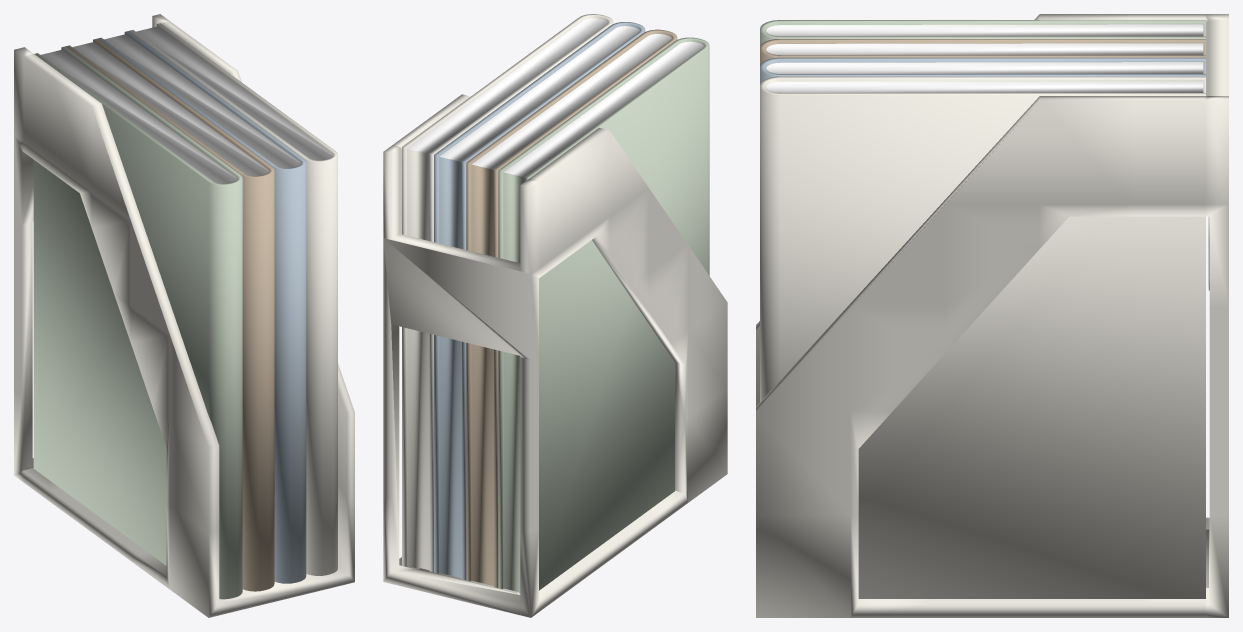
The model's file is books-stand.glb.
3 views of the same model, side by side, from view 1: azimuth 30°, elevation 25°; view 2: azimuth 150°, elevation 25°; view 3: azimuth 270°, elevation 25° (orthographic). The views are drawn at different scales.
Visible parts, largest first — view 1: s-book-stand, Cube.001, k-book-stand, t-book-stand, n-book-stand; view 2: Cube.001, s-book-stand, t-book-stand, k-book-stand, n-book-stand; view 3: n-book-stand, Cube.001, k-book-stand, s-book-stand, t-book-stand.
Part boxes in pixels (box(x1,y1,x2,y2)): s-book-stand: box(33, 46, 242, 599); Cube.001: box(14, 14, 354, 617); k-book-stand: box(97, 31, 306, 583); t-book-stand: box(66, 38, 274, 591); n-book-stand: box(129, 23, 337, 575); Cube.001: box(383, 94, 727, 617); s-book-stand: box(498, 37, 709, 593); t-book-stand: box(466, 29, 677, 587); k-book-stand: box(434, 22, 645, 580); n-book-stand: box(402, 14, 613, 572); n-book-stand: box(760, 76, 1205, 598); Cube.001: box(756, 14, 1228, 617); k-book-stand: box(760, 57, 1205, 84); s-book-stand: box(760, 20, 1205, 46); t-book-stand: box(760, 39, 1205, 65).
Size of the model in its own units: 0.23 by 0.64 by 0.53.
